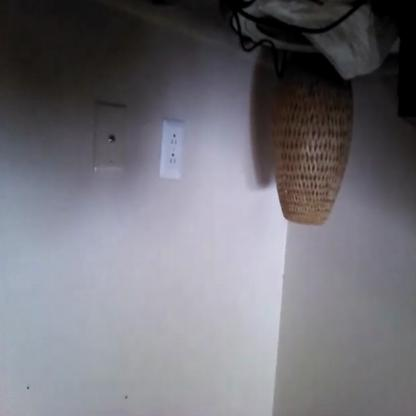OUTLET: (160, 121, 184, 180)
